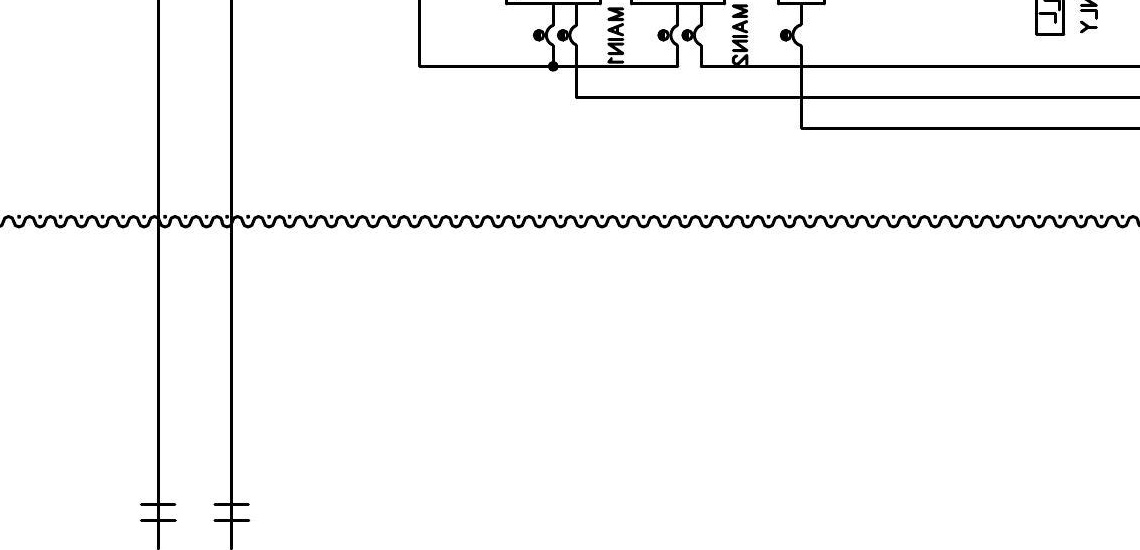115_buffer: (140, 503, 177, 522), (213, 503, 250, 522)
